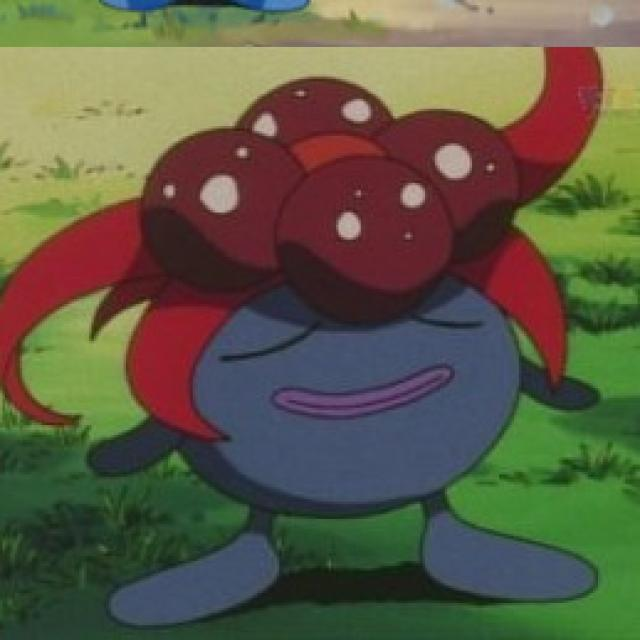Gloom: (99, 73, 580, 626)
